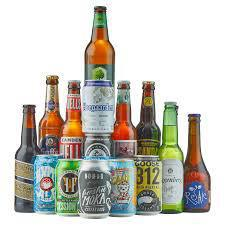beer: (14, 6, 210, 213)
